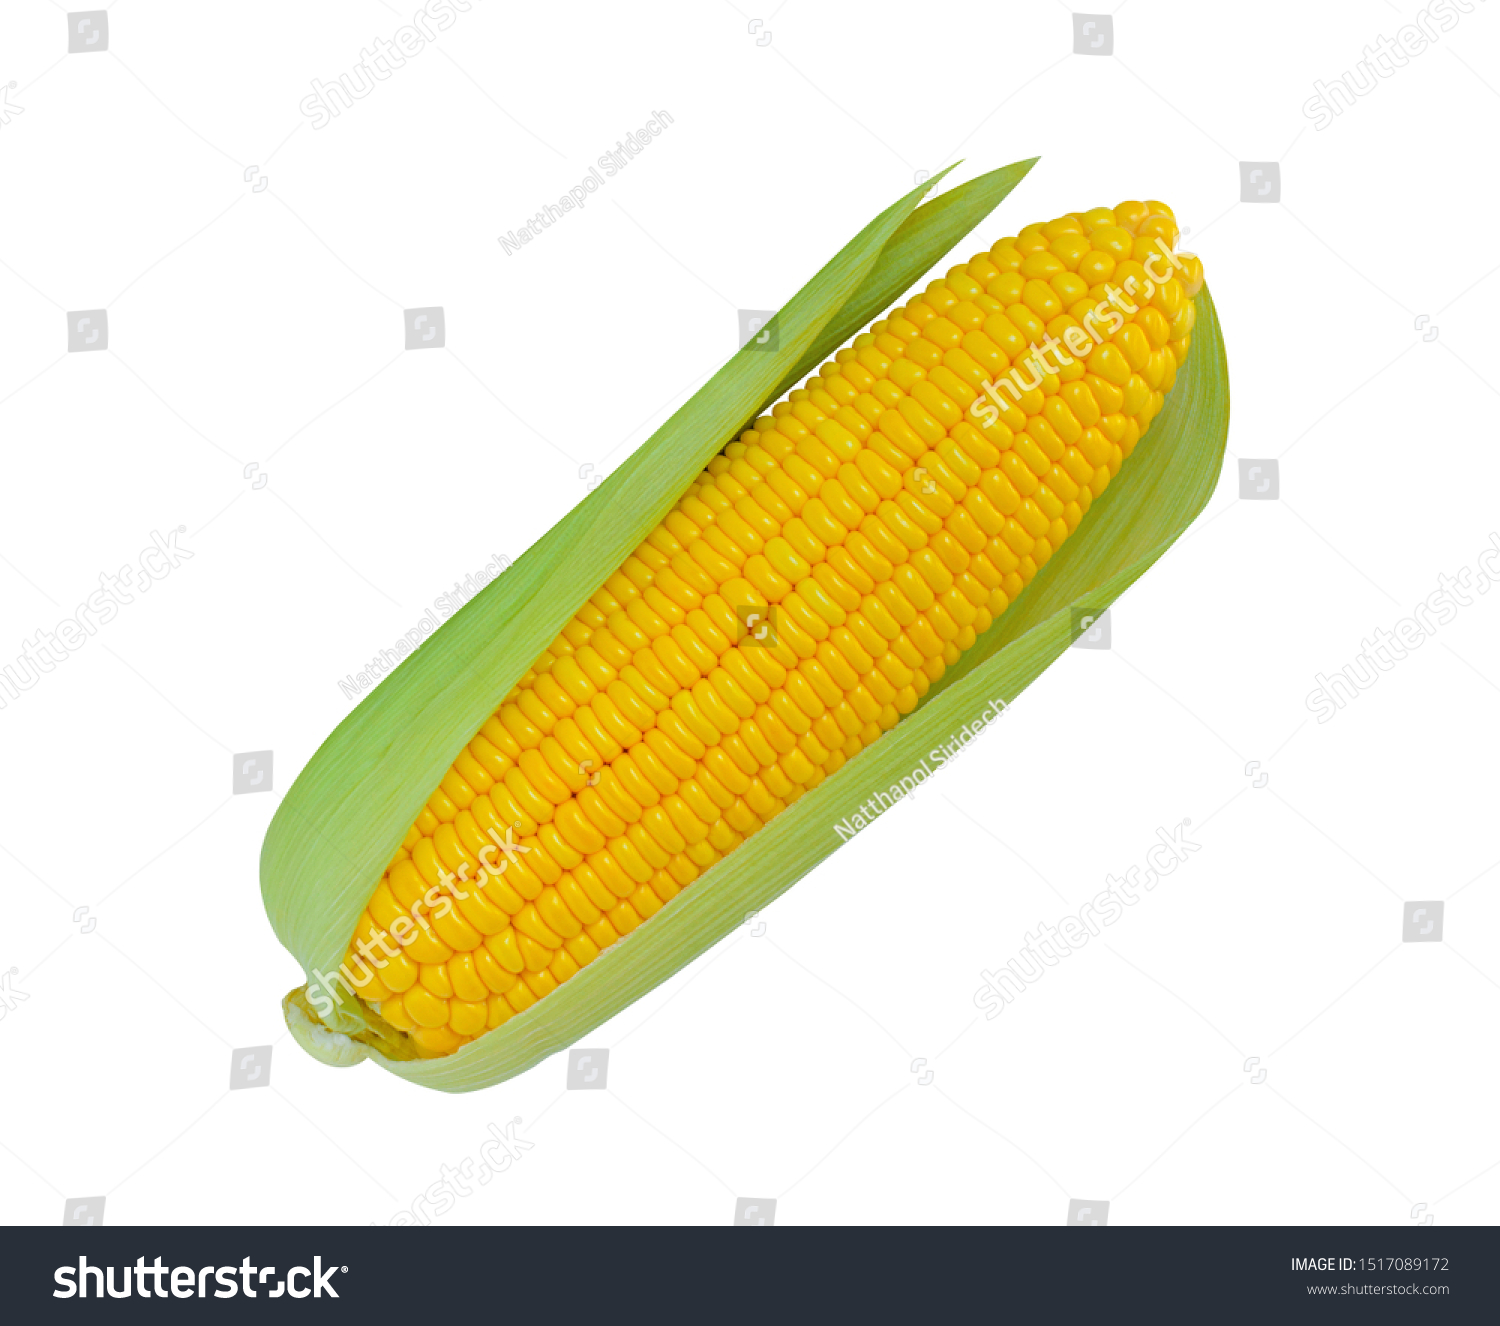corn: (211, 137, 1291, 1106)
